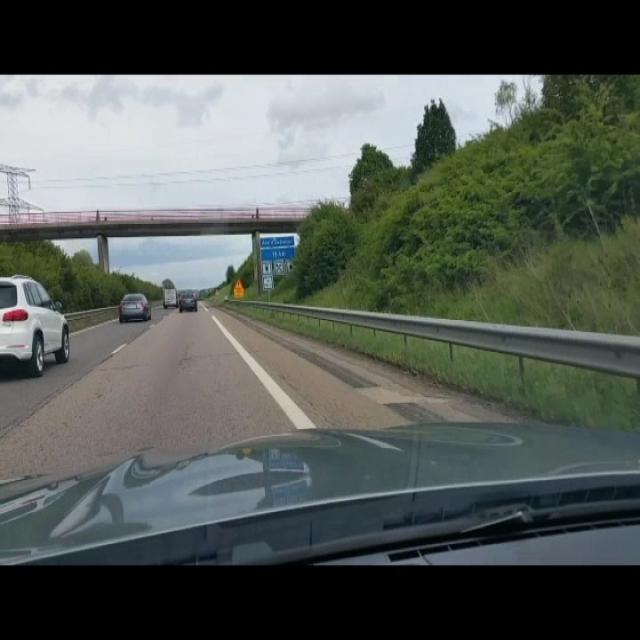indication: (260, 235, 296, 261)
